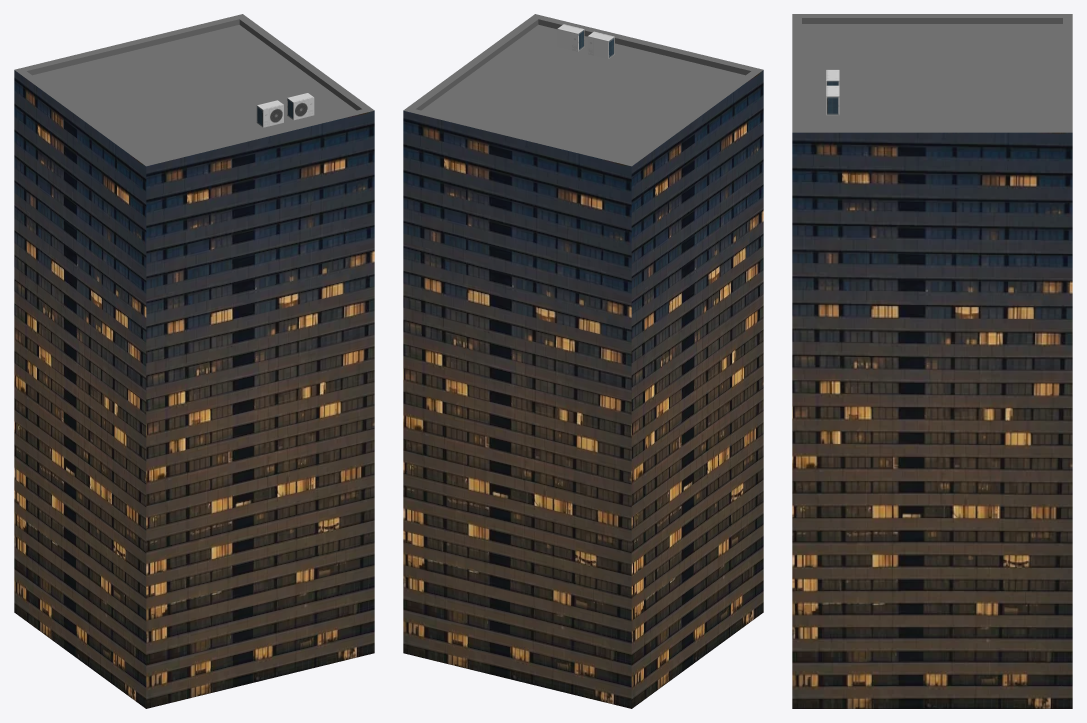
The model's file is modern_night_building.glb.
3 views of the same model, side by side, from view 1: azimuth 30°, elevation 25°; view 2: azimuth 150°, elevation 25°; view 3: azimuth 270°, elevation 25° (orthographic). The views are drawn at different scales.
Parts seen in each view (by area): view 1: Building_Building Side_0, Building_Dark_0, Building_Condenser Unit_0; view 2: Building_Building Side_0, Building_Dark_0, Building_Condenser Unit_0; view 3: Building_Building Side_0, Building_Dark_0, Building_Condenser Unit_0.
Boxes of the visible parts, x1,y1,x2,y2 form: Building_Building Side_0: (14,70,374,708); Building_Dark_0: (14,14,374,166); Building_Condenser Unit_0: (256,93,314,127); Building_Building Side_0: (403,70,763,708); Building_Dark_0: (403,14,763,166); Building_Condenser Unit_0: (557,24,614,58); Building_Building Side_0: (792,132,1072,708); Building_Dark_0: (792,14,1072,132); Building_Condenser Unit_0: (826,69,839,115).
Bounding box in the file's own units: 37.46 × 86.87 × 37.45.
Materials: 3 (2 with a texture image).
